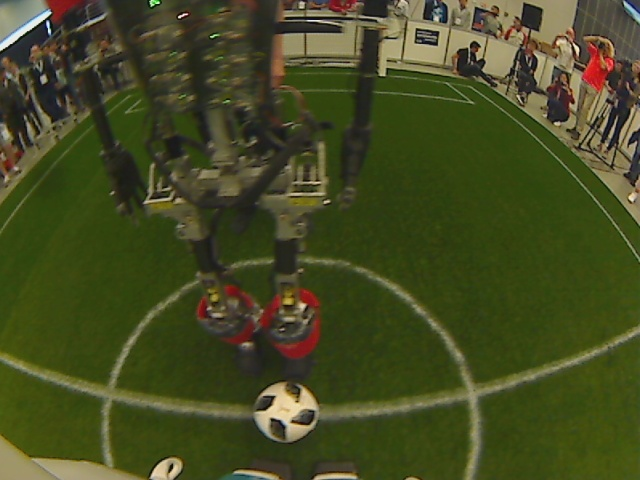ball: (249, 378, 323, 447)
